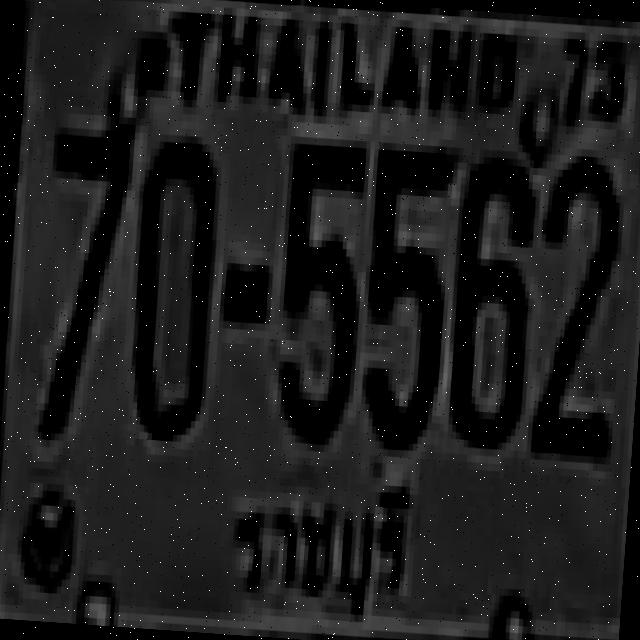0: (123, 126, 220, 436)
2: (526, 146, 623, 449)
5: (354, 138, 451, 448), (270, 136, 367, 439)
6: (442, 148, 534, 442)
7: (30, 111, 132, 436)
Ratchaburi: (221, 452, 428, 628)
